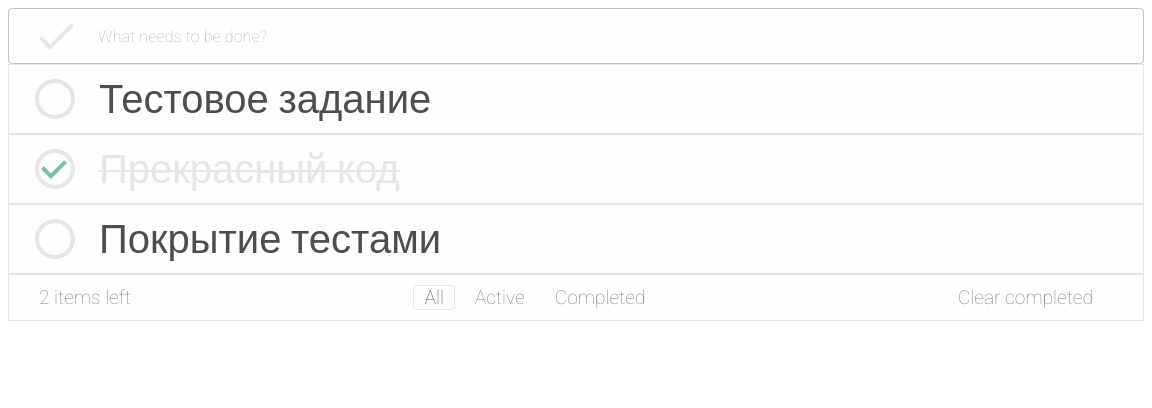
TodoInput › adds a new task
The image size is (1152, 408).
Step 1. Type "New task" into the field with placeholder "What needs to be done?" → (621, 36), box top-left (98, 8), bottom-right (1144, 64)
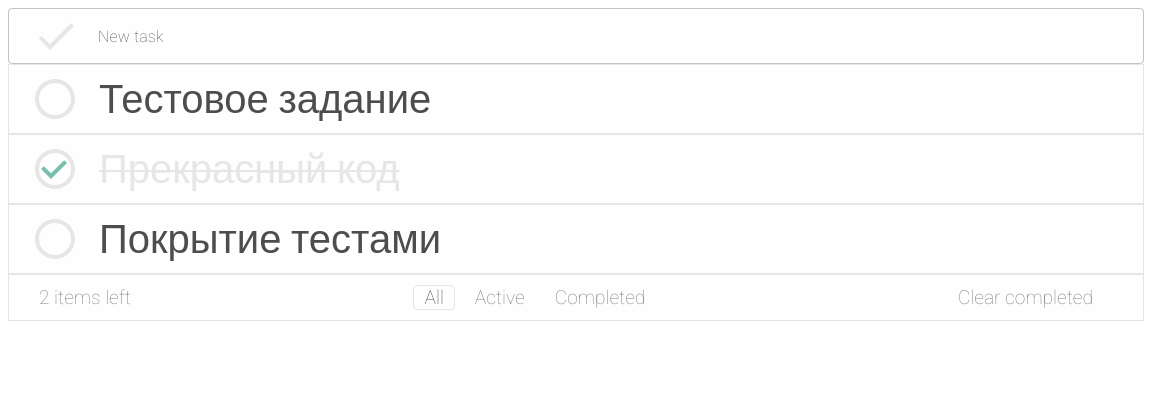
Step 2. Submit the form with placeholder "What needs to be done?", box top-left (8, 8), bottom-right (1144, 64)
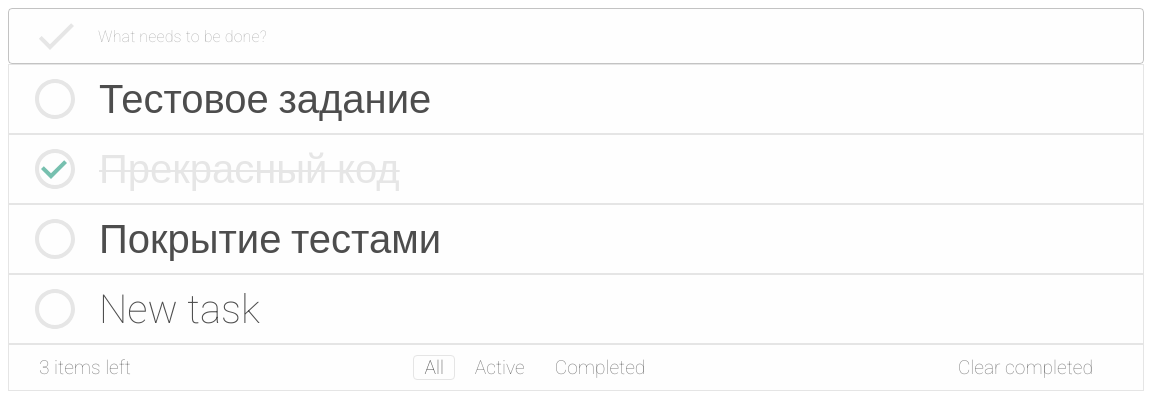
Expected: the text "New task" is shown, top-left (8, 274), bottom-right (1144, 344)
